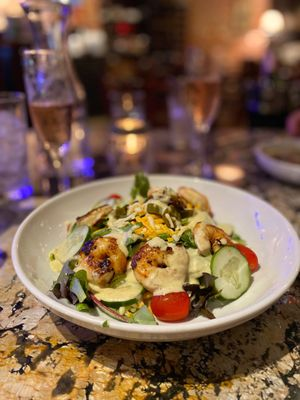sushi: (11, 172, 296, 343), (252, 138, 300, 188)
